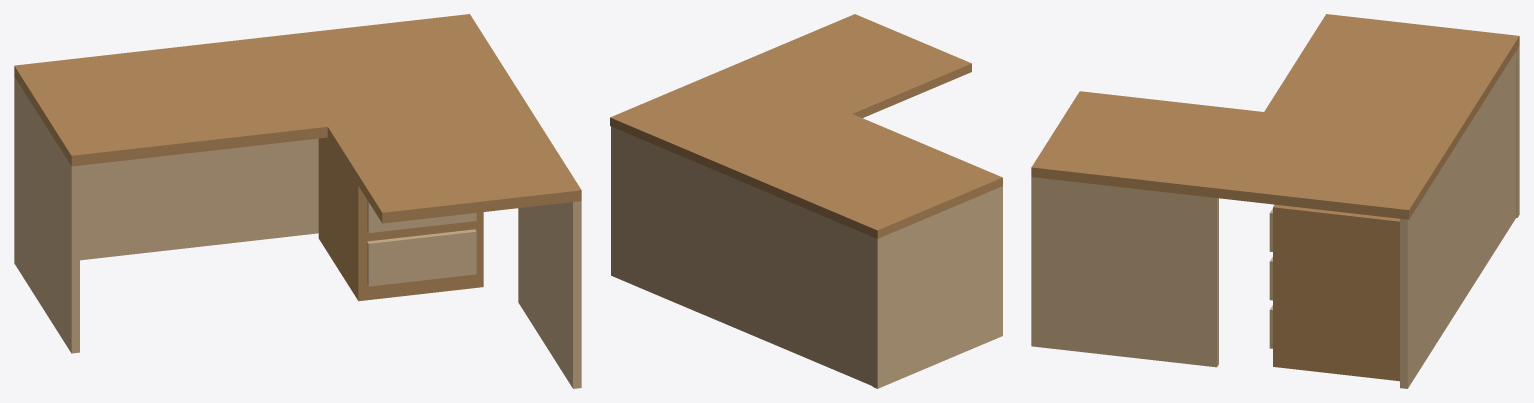
The picture shows the model from 3 angles, left to right: view 1: azimuth 30°, elevation 25°; view 2: azimuth 150°, elevation 25°; view 3: azimuth 270°, elevation 25°; orthographic projection. The views are drawn at different scales.
Parts seen in each view (by area): view 1: escritorio_of1; view 2: escritorio_of1; view 3: escritorio_of1.
Part boxes in pixels (x1,y1,x2,y2): escritorio_of1: (14, 14, 581, 388); escritorio_of1: (610, 14, 1002, 388); escritorio_of1: (1031, 14, 1519, 388).
Bounding box in the file's own units: 1.74 × 1.83 × 0.76.
